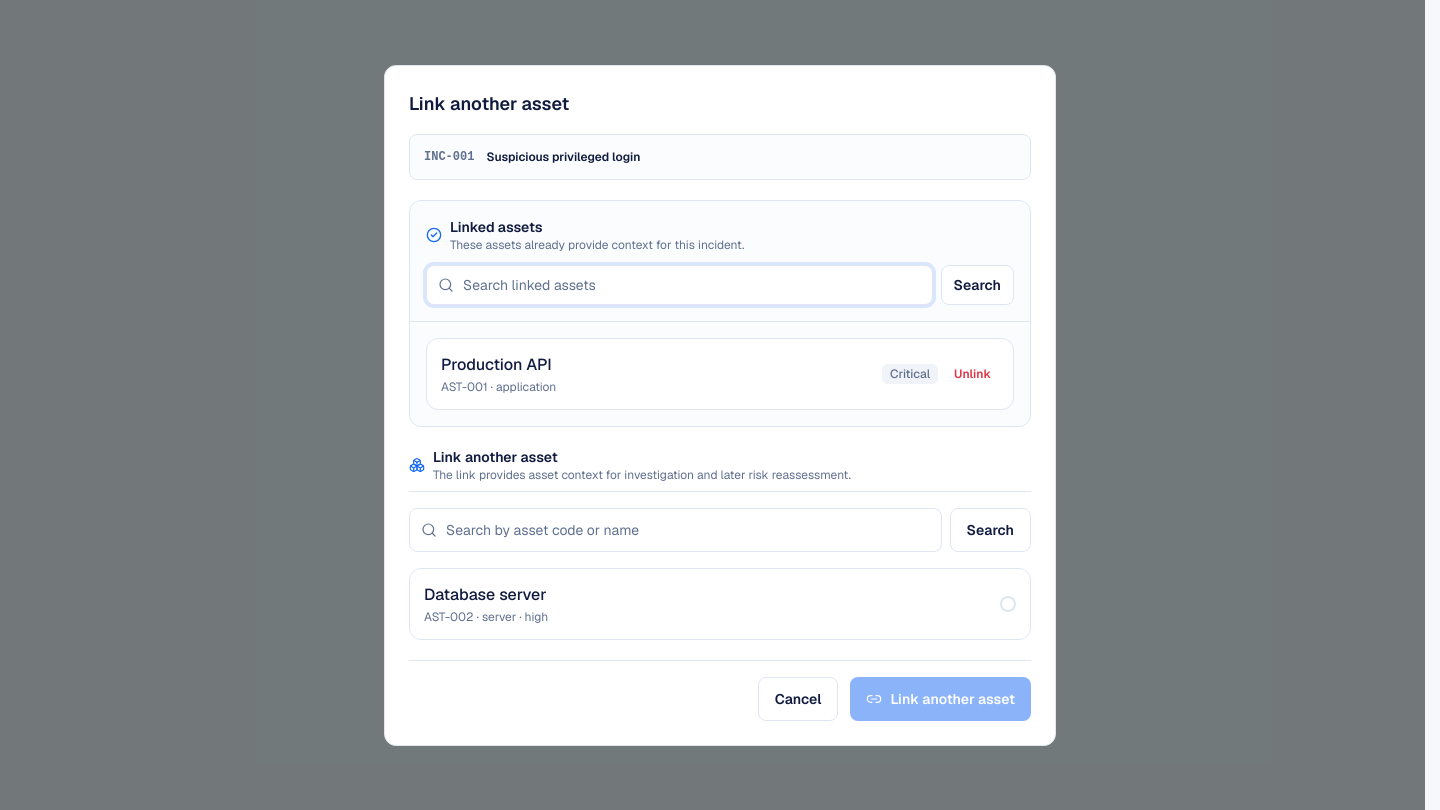
Test case: link incident asset dialog › shows existing links and only offers assets that are not linked
The width and height of the screenshot is (1440, 810).
Expected: the 1st heading "Link another asset" is shown, [409,92,569,114]
Expected: the heading "Linked assets" is shown, [450,218,542,236]
Click the radio button labelled "Database server AST-002 · server · high".
click(485, 594)  # box [409,568,1031,640]
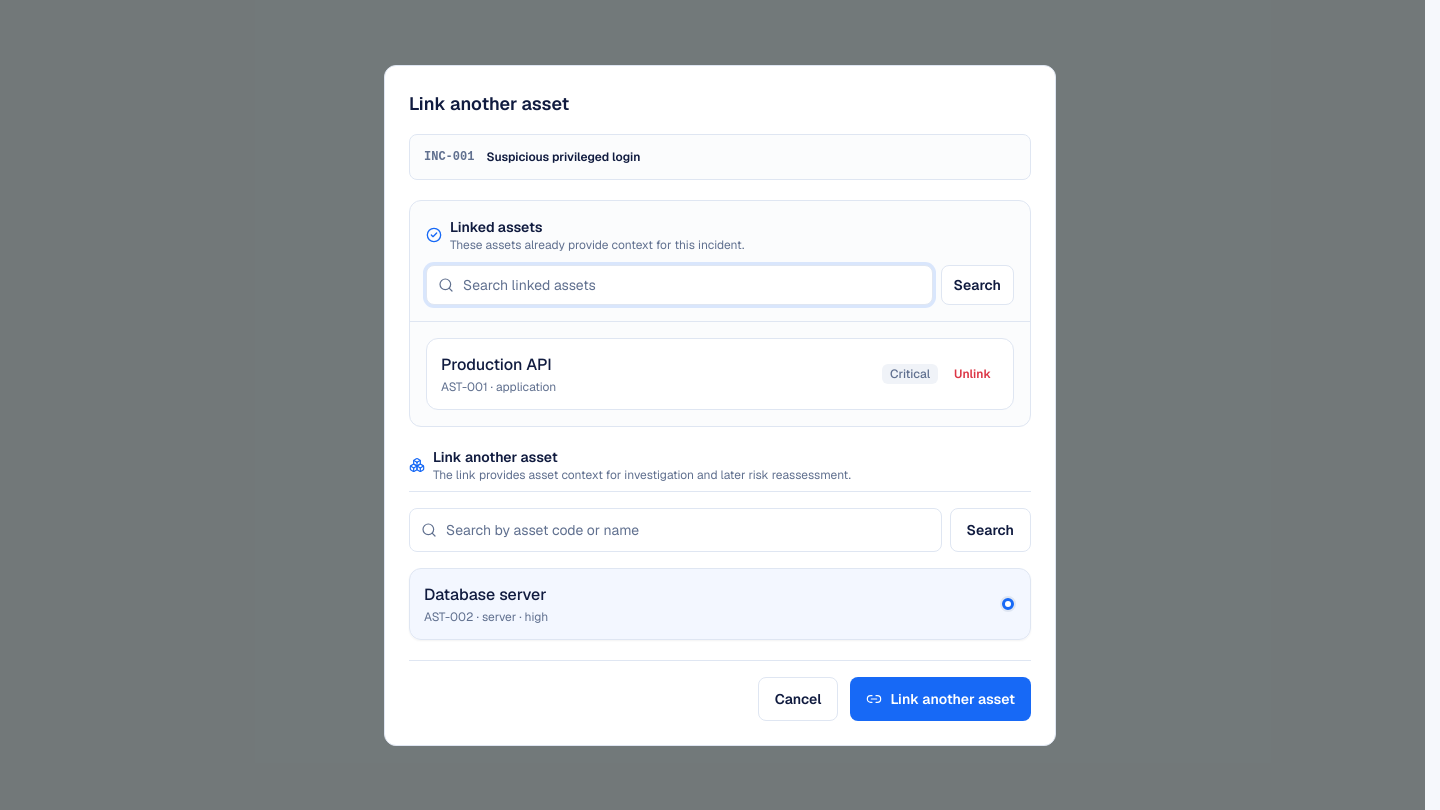
Expected: the button "Link another asset" is enabled, [850,676,1031,720]
